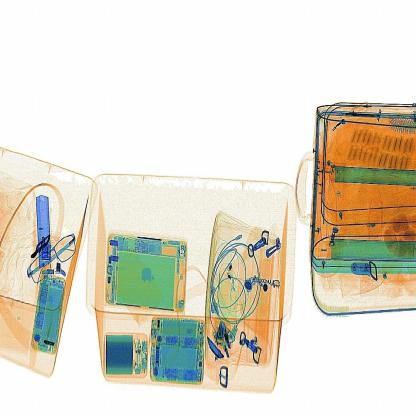pliers: (28, 188, 60, 276)
